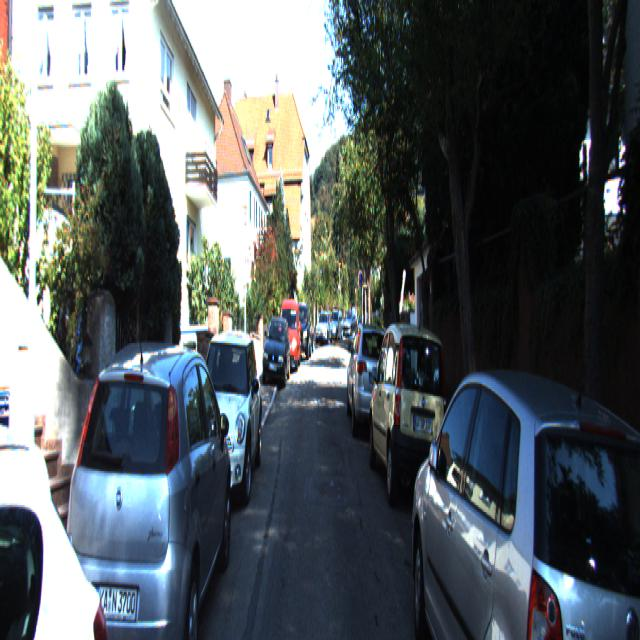Car: (408, 340, 640, 638), (63, 331, 233, 638), (0, 328, 135, 638), (367, 316, 454, 522), (184, 328, 262, 517), (345, 317, 397, 449), (262, 315, 290, 393), (278, 296, 301, 375), (290, 301, 312, 364)
